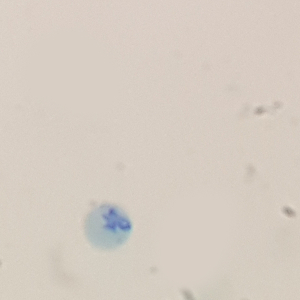aggregate reticulocyte: (81, 202, 135, 254)
